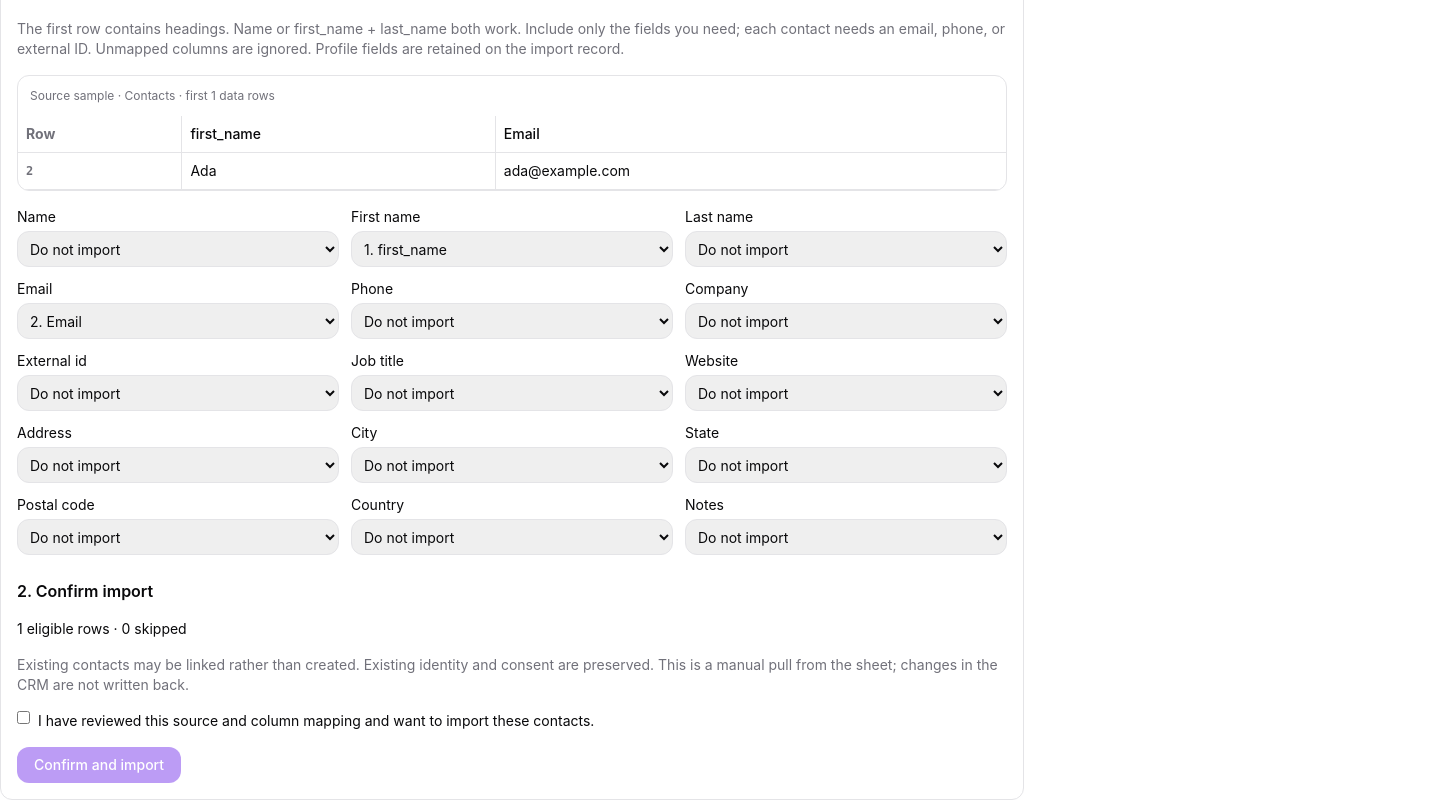
Test case: Google Sheets source review › does not sync after a failed mapping confirmation
(page scrolled)
Check: the text "ada@example.com" is shown, box [495, 152, 1006, 190]
Click the checkbox at {"x": 24, "y": 718}, box [17, 711, 30, 724]
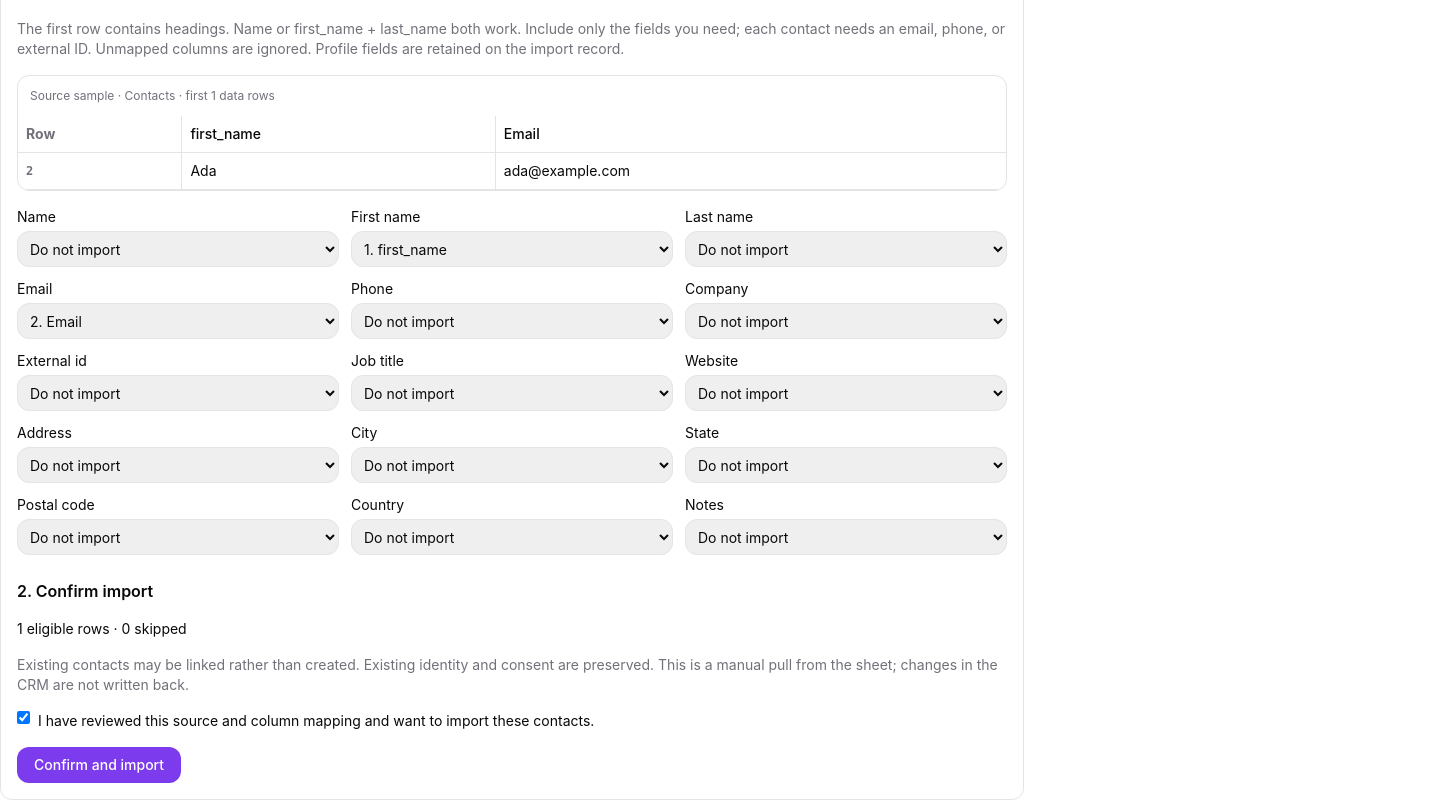
Click the button "Confirm and import" at {"x": 99, "y": 765}, box [17, 747, 181, 783]
(page scrolled)
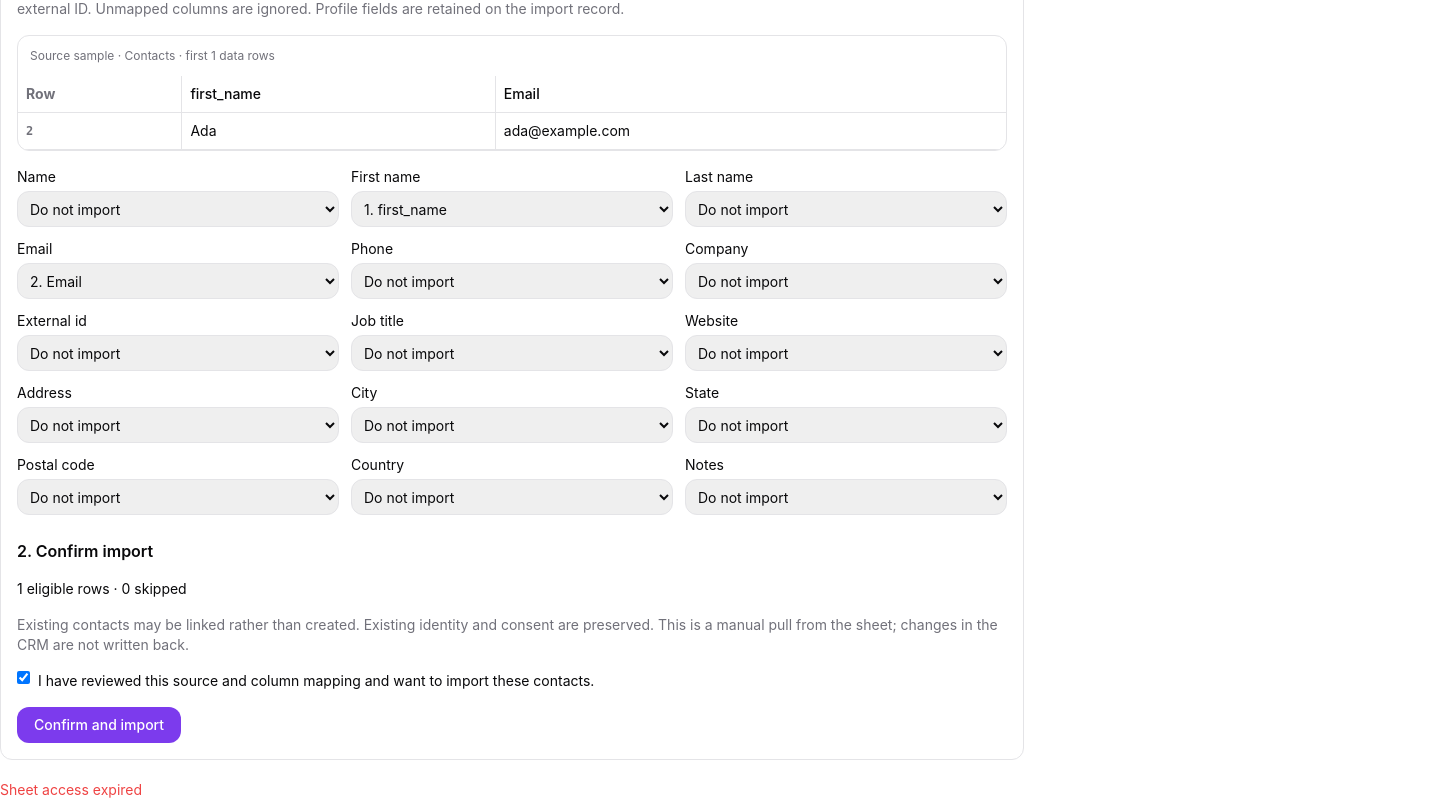
Check: the message reads "Sheet access expired", box [0, 781, 142, 798]
